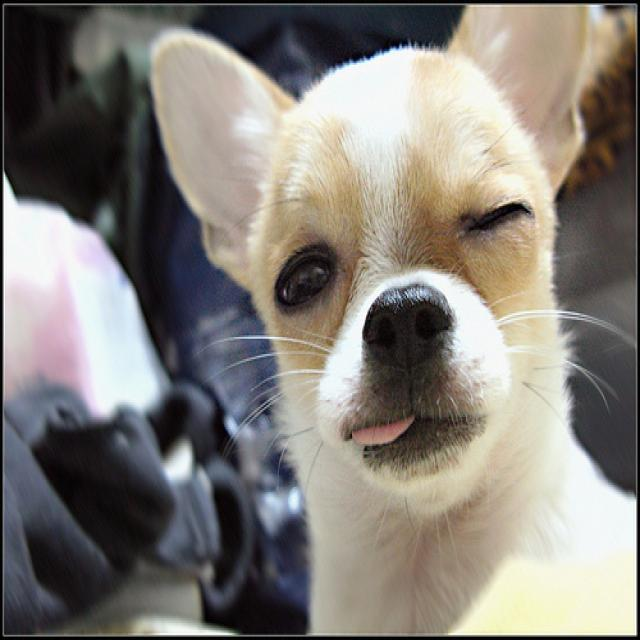dog-chihuahua: (150, 2, 637, 637)
